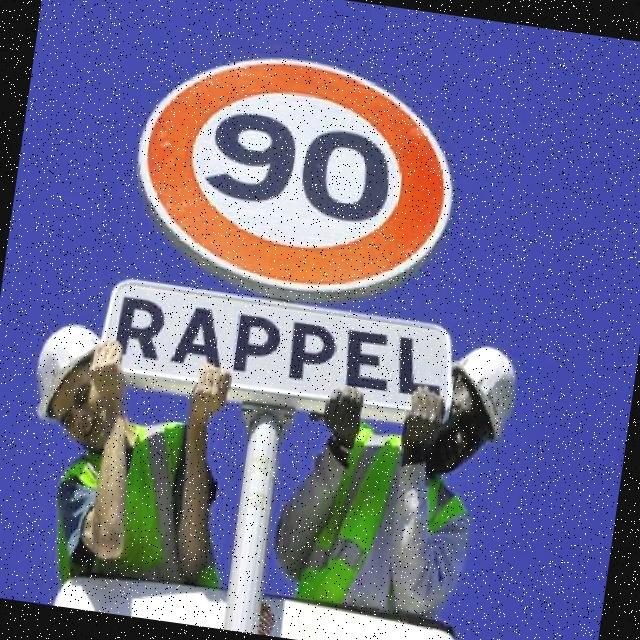Ograniczenie predkosci do 90: (128, 36, 467, 314)
